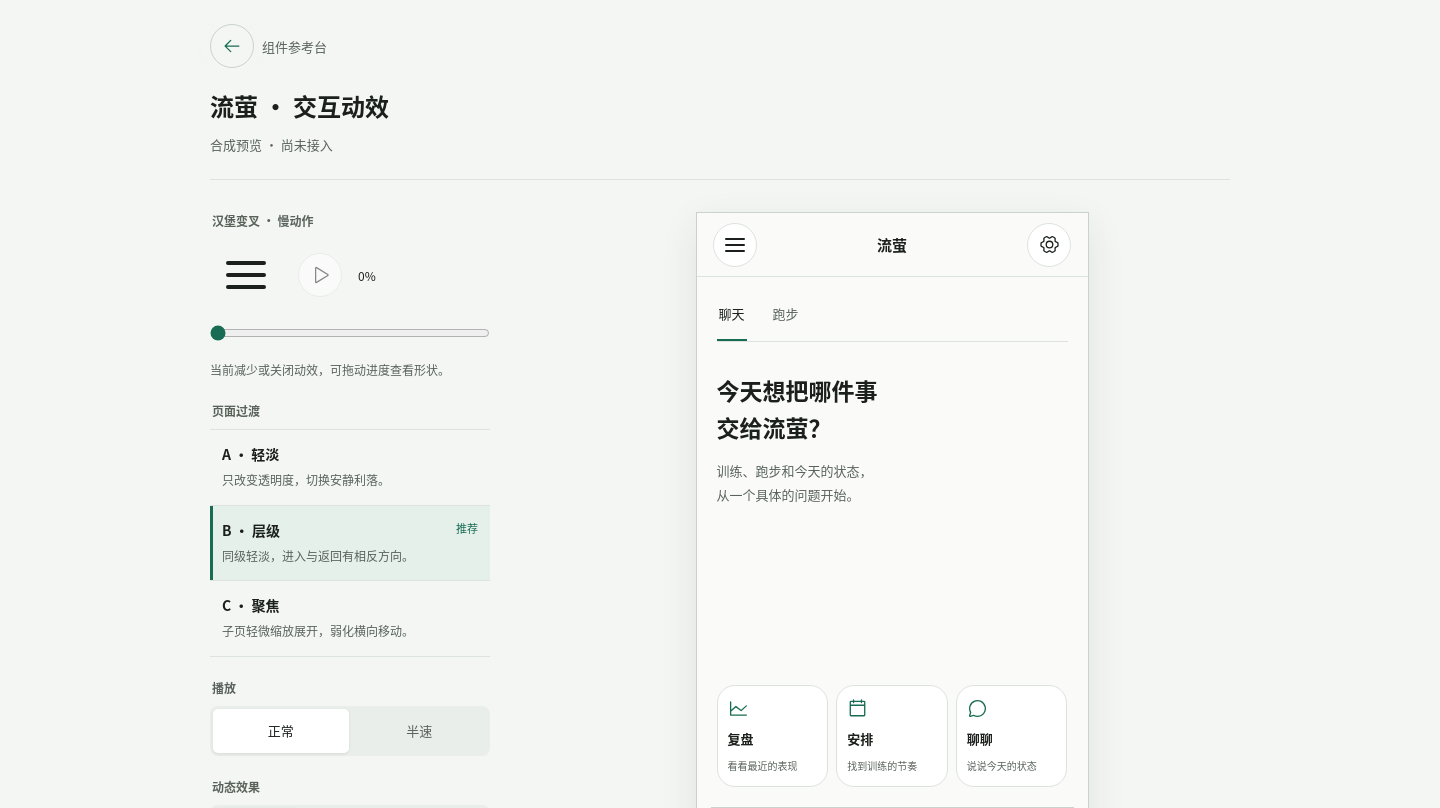
Test: 汉堡与叉号保留同一个按钮和三条线，关闭后归还焦点
Click the button named "打开菜单预览".
click(734, 245)  # box 712,223 -> 756,267
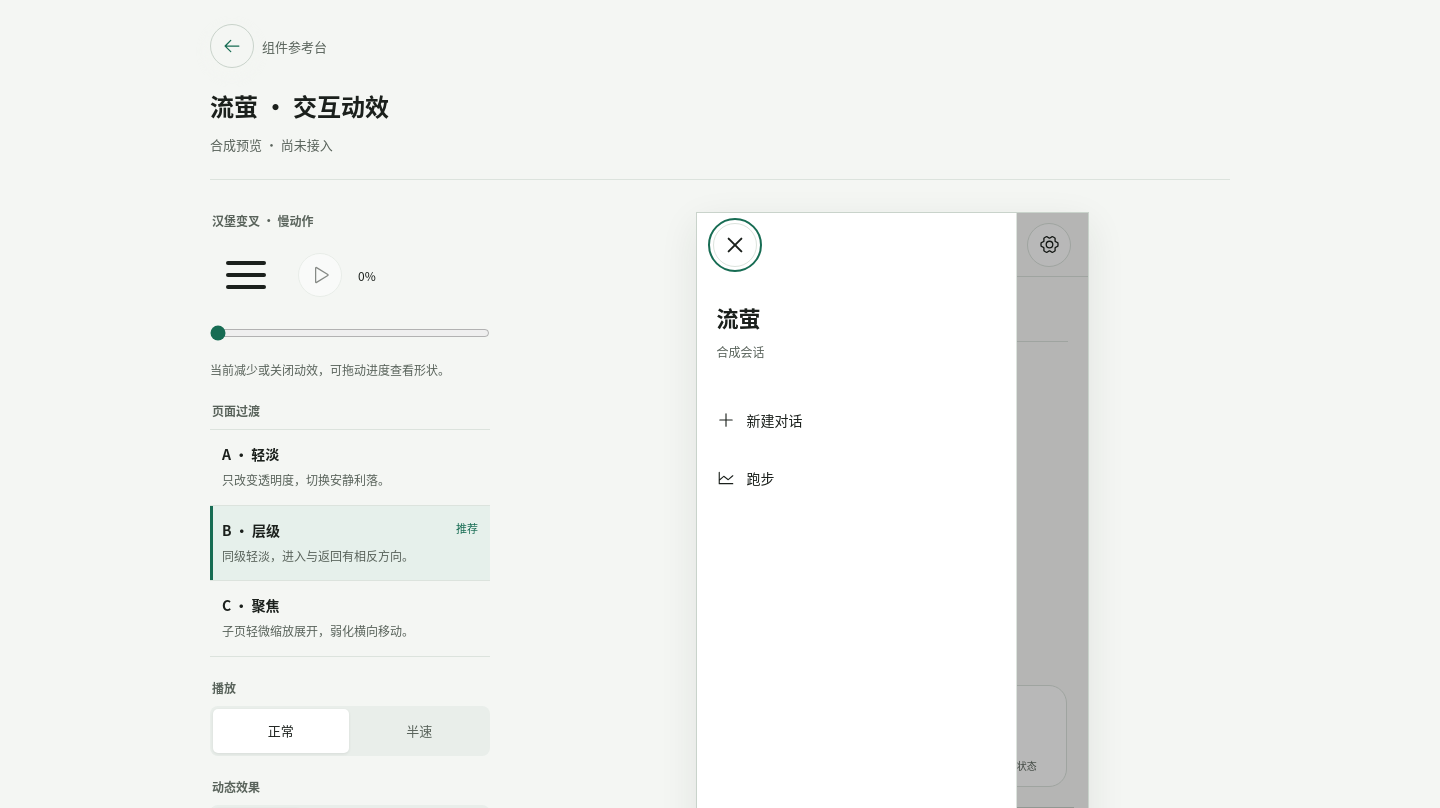
Expected: the 1st element with class "menu-glyph" has attribute data-open="true", 727,237 -> 742,253
Press Escape in the button named "关闭菜单预览", box 712,223 -> 756,267
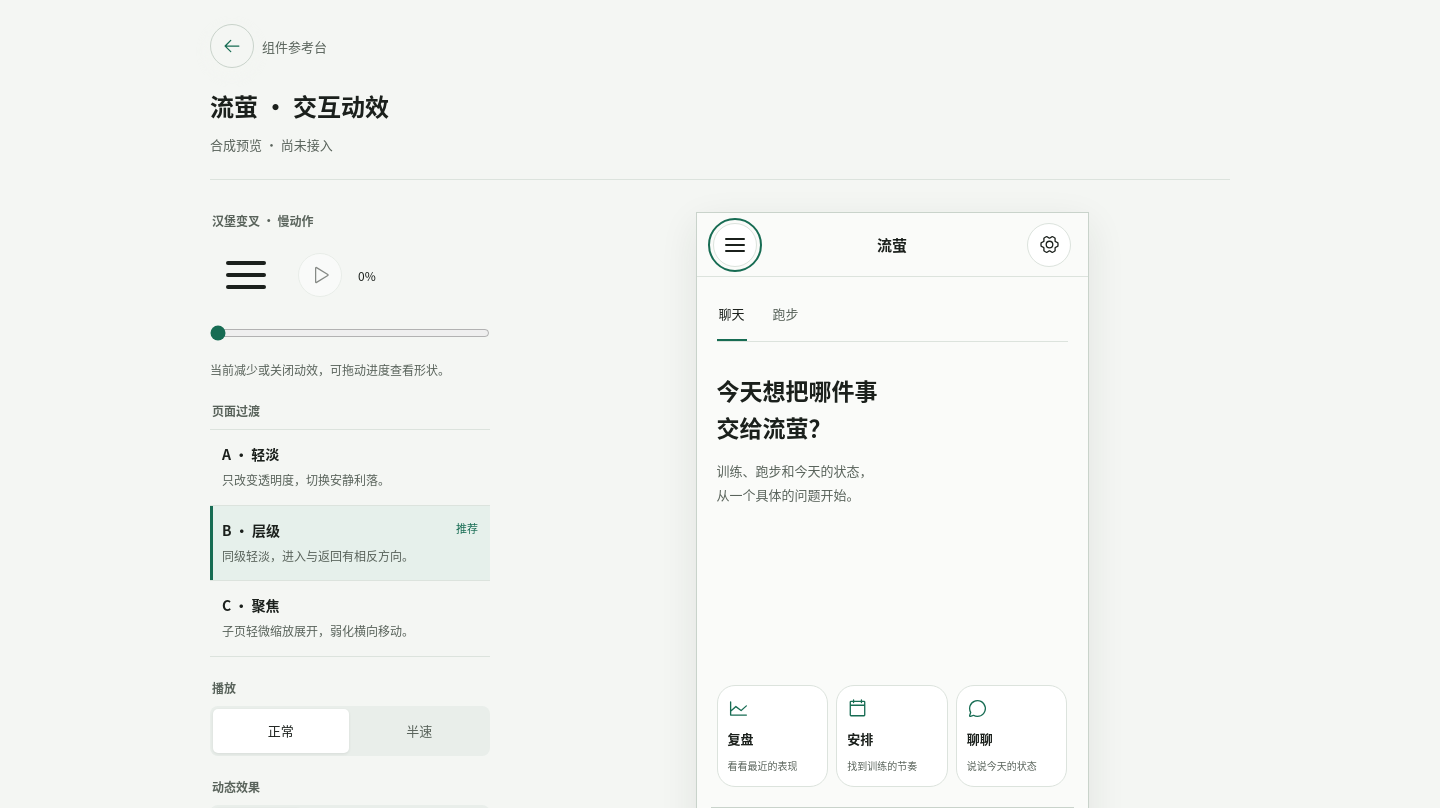
Expected: the button named "关闭菜单预览" is collapsed, 712,223 -> 756,267
